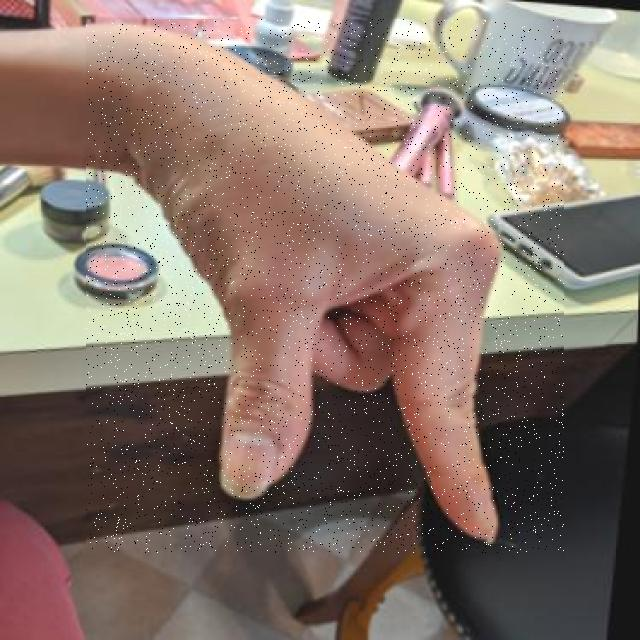Q: (86, 19, 564, 554)
